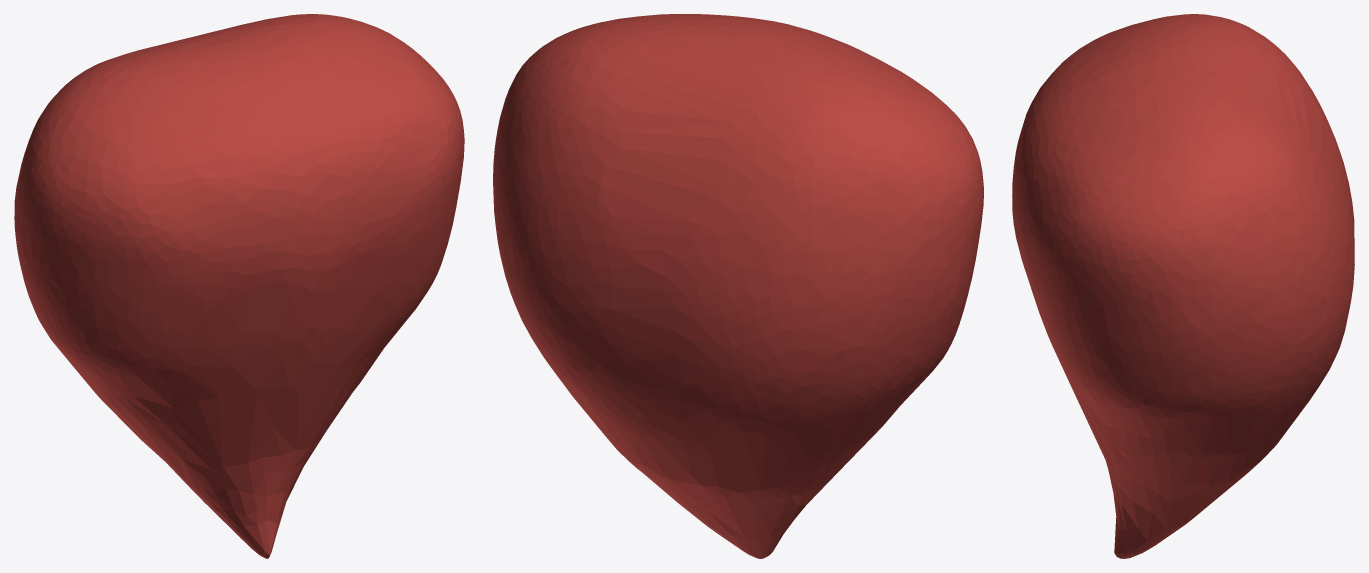
The model's file is bladder.glb.
3 views of the same model, side by side, from view 1: azimuth 30°, elevation 25°; view 2: azimuth 150°, elevation 25°; view 3: azimuth 270°, elevation 25° (orthographic). The views are drawn at different scales.
Size of the model in its own units: 72.58 by 82.83 by 51.56.
